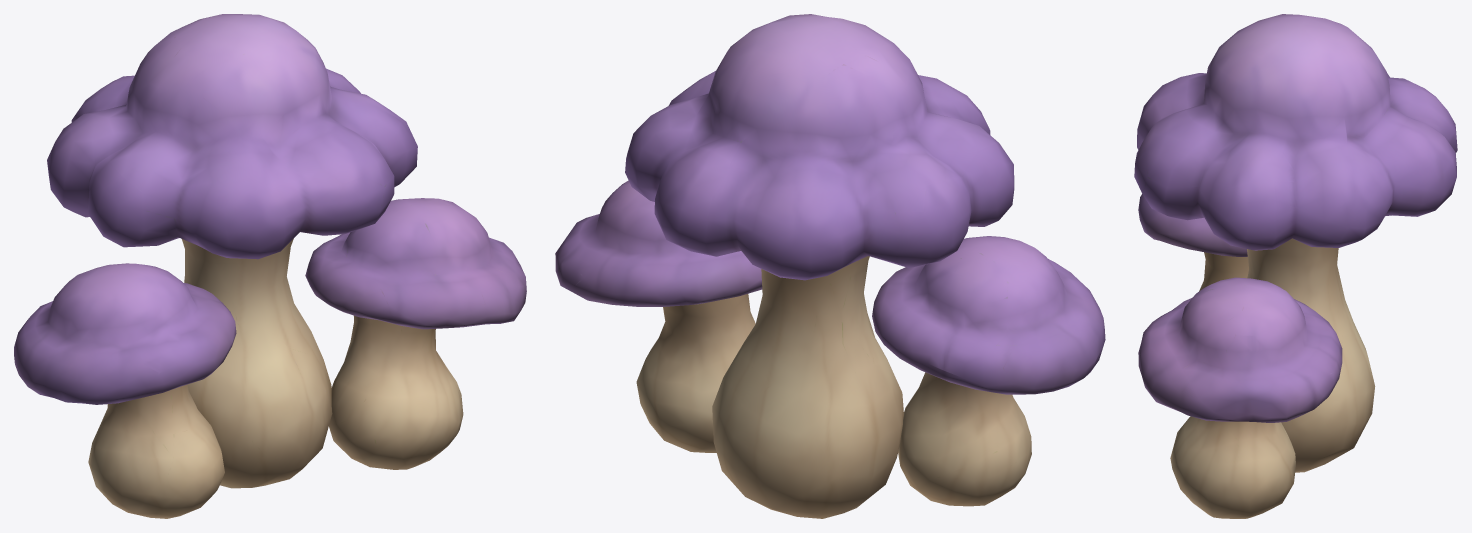
The model's file is setas_pantano.glb.
3 views of the same model, side by side, from view 1: azimuth 30°, elevation 25°; view 2: azimuth 150°, elevation 25°; view 3: azimuth 270°, elevation 25° (orthographic). The views are drawn at different scales.
Visible parts, largest first — view 1: setas_pantano; view 2: setas_pantano; view 3: setas_pantano.
Boxes of the visible parts, x1,y1,x2,y2 form: setas_pantano: (14, 14, 526, 518); setas_pantano: (555, 14, 1105, 518); setas_pantano: (1134, 14, 1457, 518).
Bounding box in the file's own units: 0.3711 × 0.3376 × 0.2277.
1 material, 1 textured.
